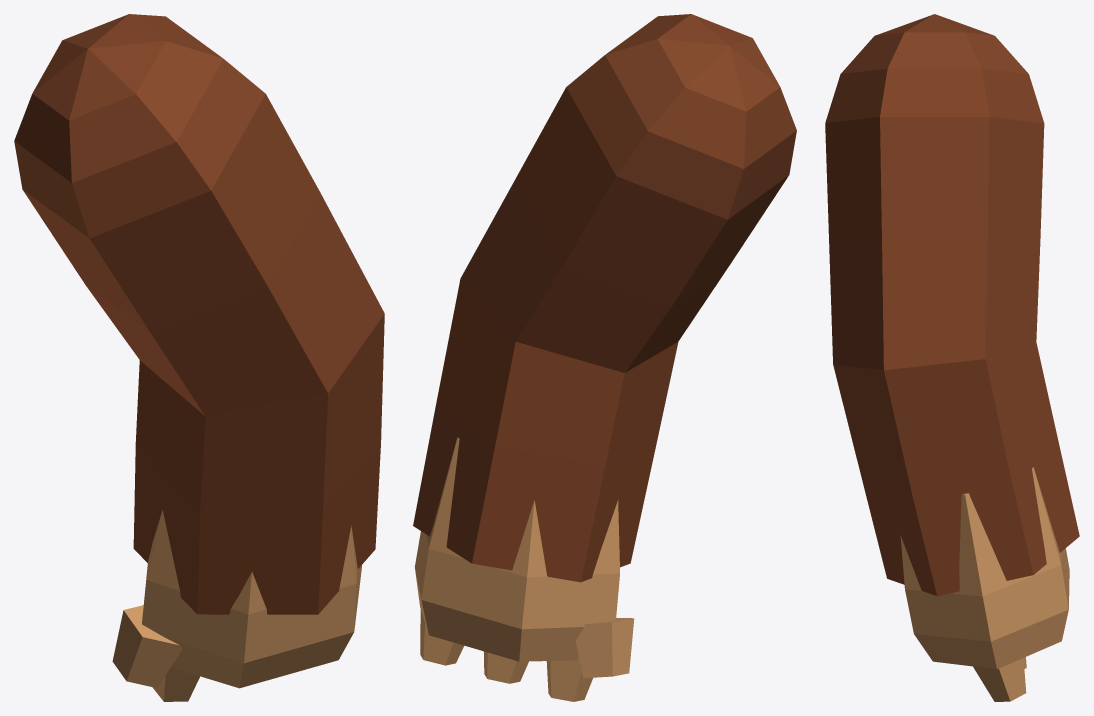
File: ds_monkey_trunk_arm_r.glb
3 views of the same model, side by side, from view 1: azimuth 30°, elevation 25°; view 2: azimuth 150°, elevation 25°; view 3: azimuth 270°, elevation 25° (orthographic). The views are drawn at different scales.
Parts seen in each view (by area): view 1: DSMonkeyTrunk_Arm_R; view 2: DSMonkeyTrunk_Arm_R; view 3: DSMonkeyTrunk_Arm_R.
Part boxes in pixels (<box>): DSMonkeyTrunk_Arm_R: <box>14,14,384,701</box>; DSMonkeyTrunk_Arm_R: <box>413,14,796,701</box>; DSMonkeyTrunk_Arm_R: <box>825,14,1079,701</box>.
Bounding box in the file's own units: 0.0958 × 0.1865 × 0.0732.
